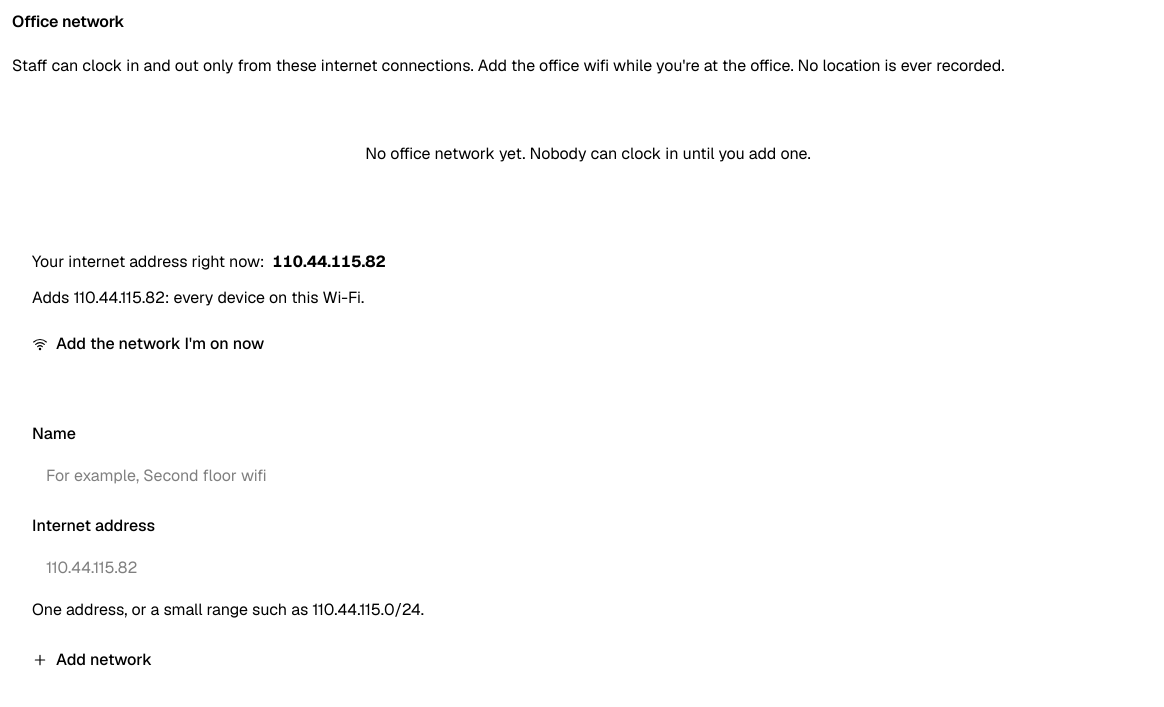
Test: OfficeNetworkSettings › Add the network I'm on now › shows the server's reason when it is refused
Click the button "Add the network I'm on now": [148, 344] box left=32, top=322, right=264, bottom=366
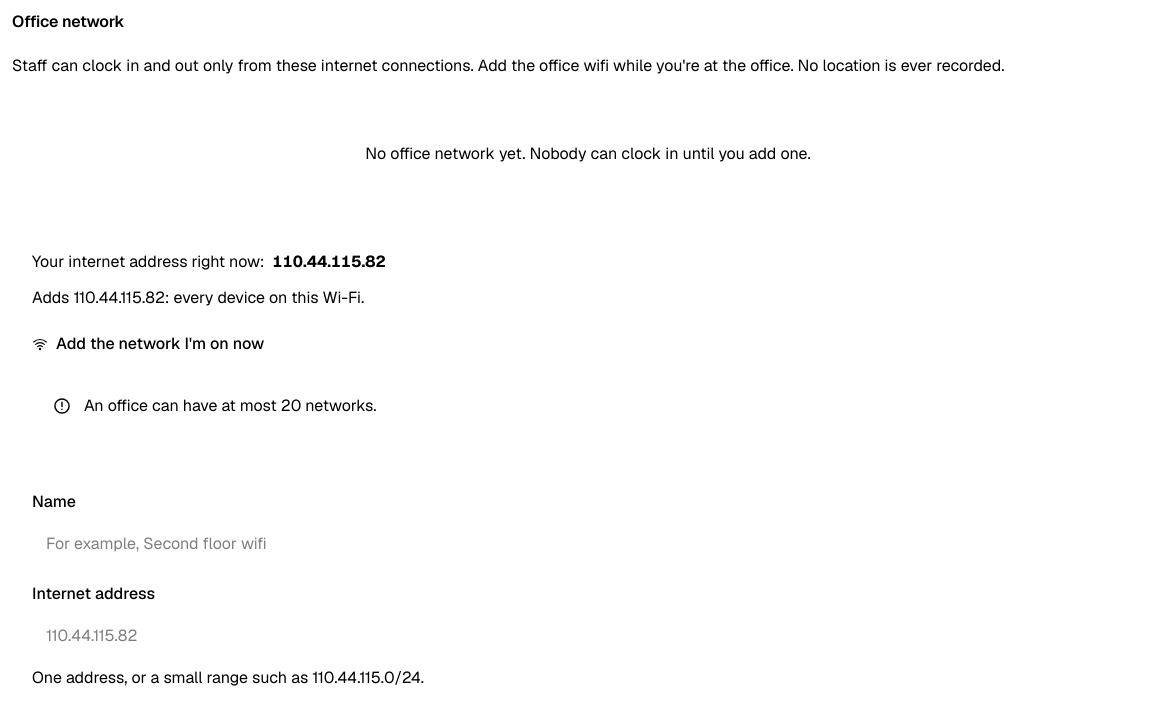
Check: the message reads "An office can have at most 20 networks.", box left=84, top=395, right=376, bottom=416
